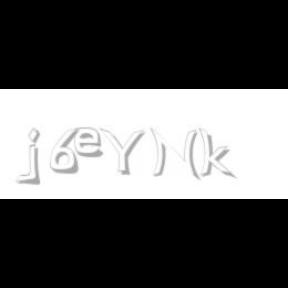6: (50, 128, 78, 176)
N: (150, 128, 198, 180)
Y: (99, 128, 145, 176)
e: (74, 128, 108, 158)
j: (26, 128, 54, 186)
k: (198, 128, 236, 180)
